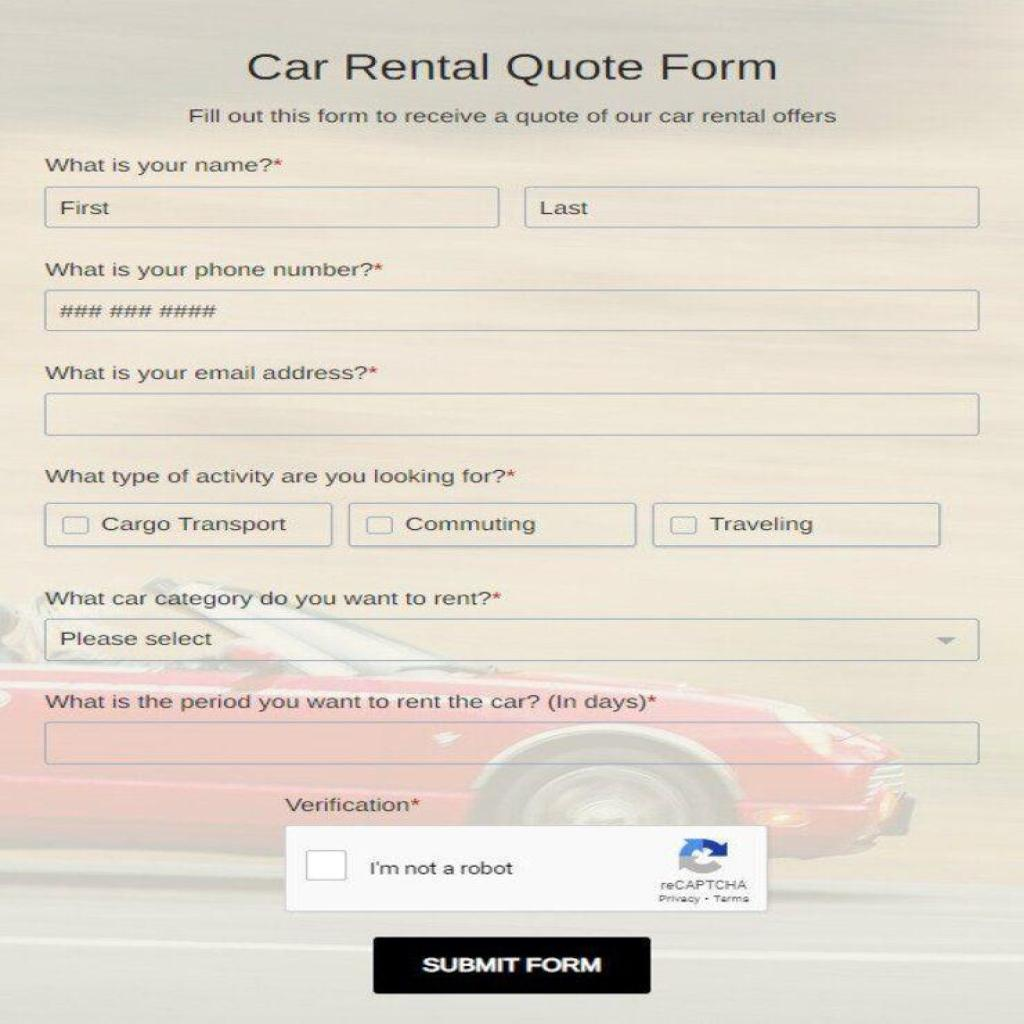button: (371, 936, 652, 994)
checkbox: (303, 849, 349, 883), (668, 515, 700, 537), (61, 515, 91, 537), (366, 515, 394, 536)
dropdown: (43, 618, 981, 662)
input: (43, 720, 980, 766), (44, 394, 980, 436), (46, 291, 978, 330), (46, 186, 500, 228), (524, 186, 978, 228)
label: (40, 688, 666, 716), (42, 587, 506, 613), (43, 465, 519, 488), (43, 260, 389, 286), (43, 360, 382, 386), (42, 152, 285, 181), (362, 855, 524, 884), (101, 514, 291, 536), (282, 794, 425, 816), (707, 512, 822, 538), (402, 518, 546, 534)
